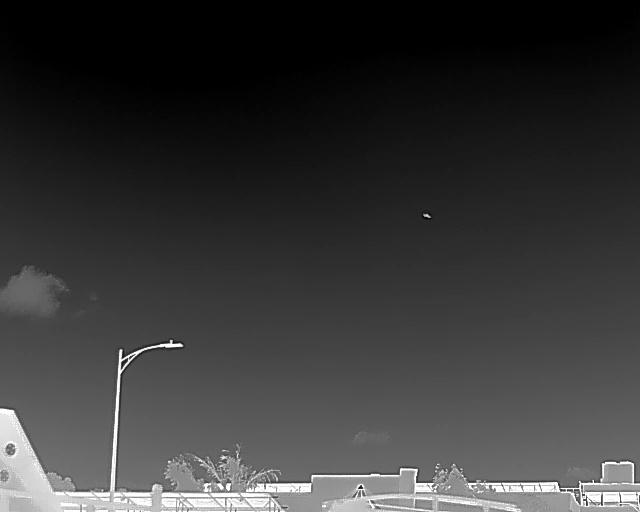fpv-drone: (422, 211, 431, 218)
